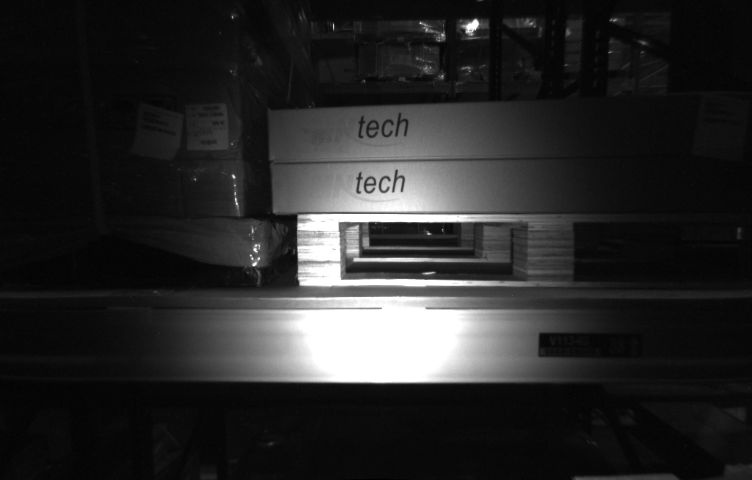True Barcode: (186, 104, 227, 150)
